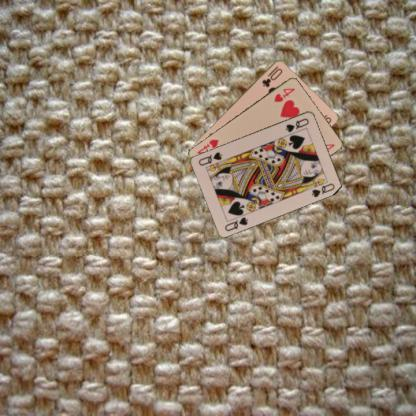10c: (259, 63, 284, 88)
4h: (272, 85, 296, 103)
Qs: (222, 214, 249, 233), (283, 115, 310, 133)
